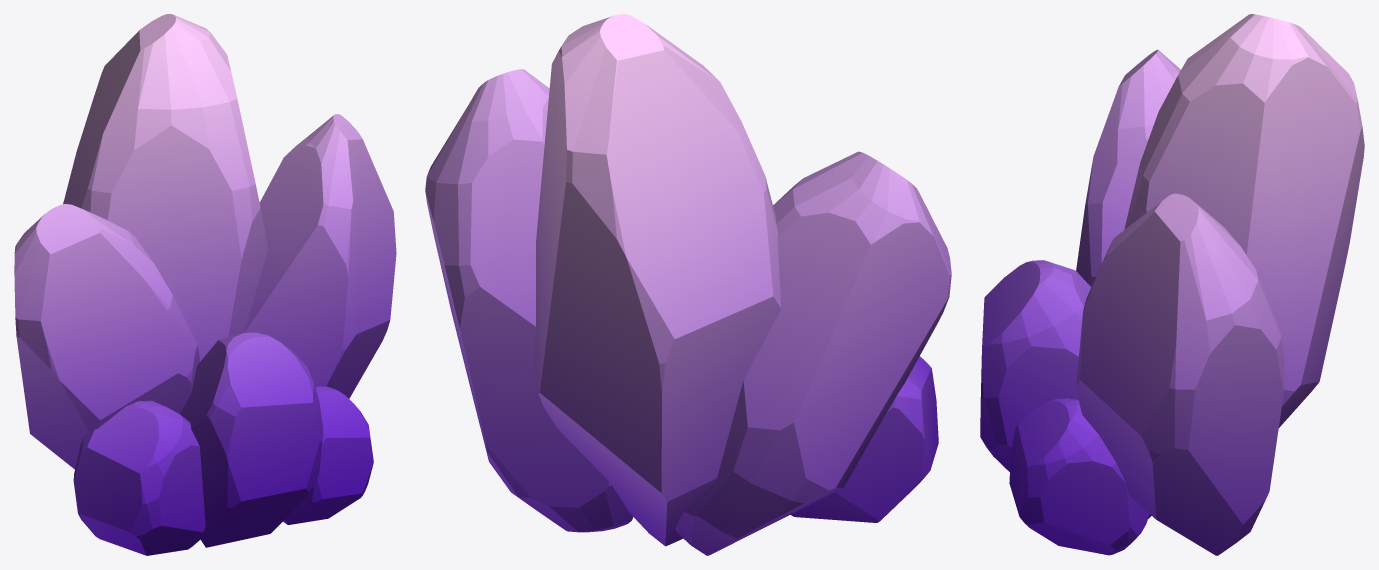
File: CRYSTALS_purple_.fbx
3 views of the same model, side by side, from view 1: azimuth 30°, elevation 25°; view 2: azimuth 150°, elevation 25°; view 3: azimuth 270°, elevation 25° (orthographic). The views are drawn at different scales.
Parts seen in each view (by area): view 1: Sphere.001; view 2: Sphere.001; view 3: Sphere.001.
Part boxes in pixels (x1,y1,x2,y2): Sphere.001: (14,14,396,555); Sphere.001: (425,14,951,555); Sphere.001: (980,14,1364,555).
Bounding box in the file's own units: 609 × 677 × 458.
1 material, 1 textured.
